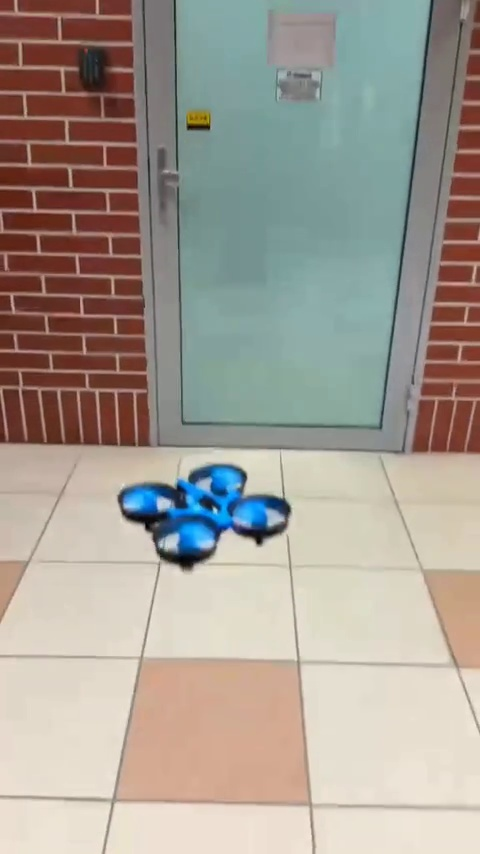drone: (116, 460, 289, 568)
